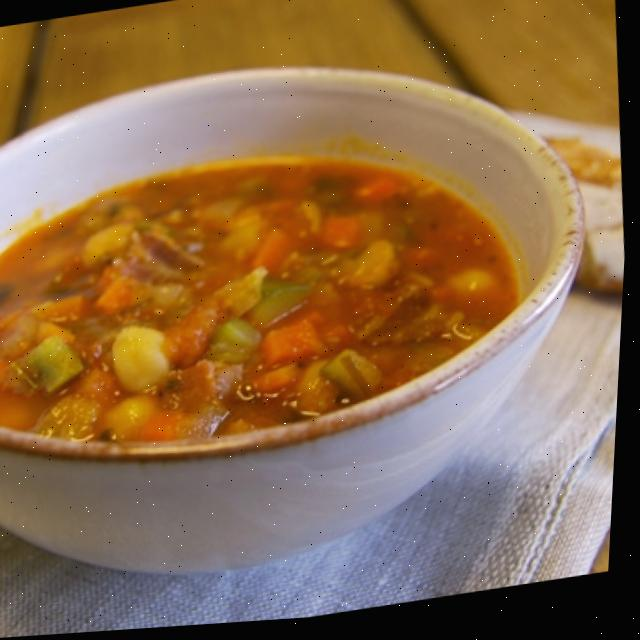汤锅炖物: (0, 0, 624, 615)
